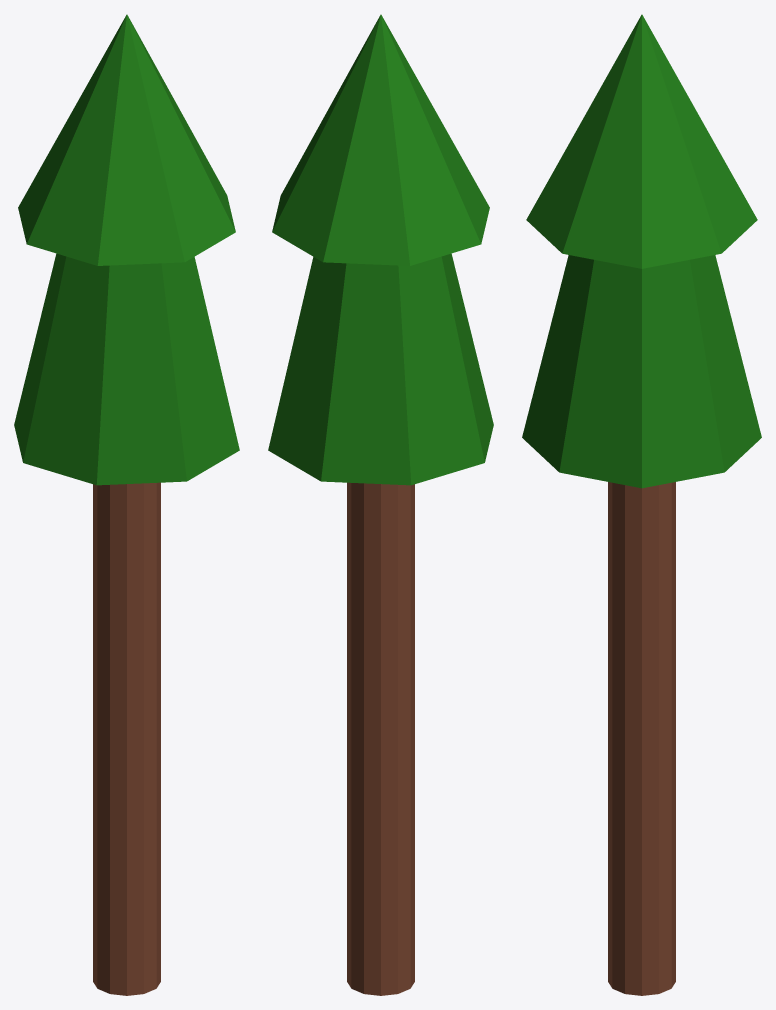
File: Tree_21_summer_mat.fbx
The picture shows the model from 3 angles, left to right: view 1: azimuth 30°, elevation 25°; view 2: azimuth 150°, elevation 25°; view 3: azimuth 270°, elevation 25°; orthographic projection.
Parts seen in each view (by area): view 1: Tree_21_summer_mat; view 2: Tree_21_summer_mat; view 3: Tree_21_summer_mat.
Part boxes in pixels (x1,y1,x2,y2): Tree_21_summer_mat: [14, 14, 239, 995]; Tree_21_summer_mat: [268, 14, 493, 995]; Tree_21_summer_mat: [522, 14, 761, 995].
Bounding box in the file's own units: 3.12 × 13.87 × 3.12.
